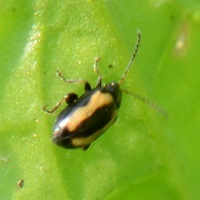insect: (43, 31, 140, 149)
